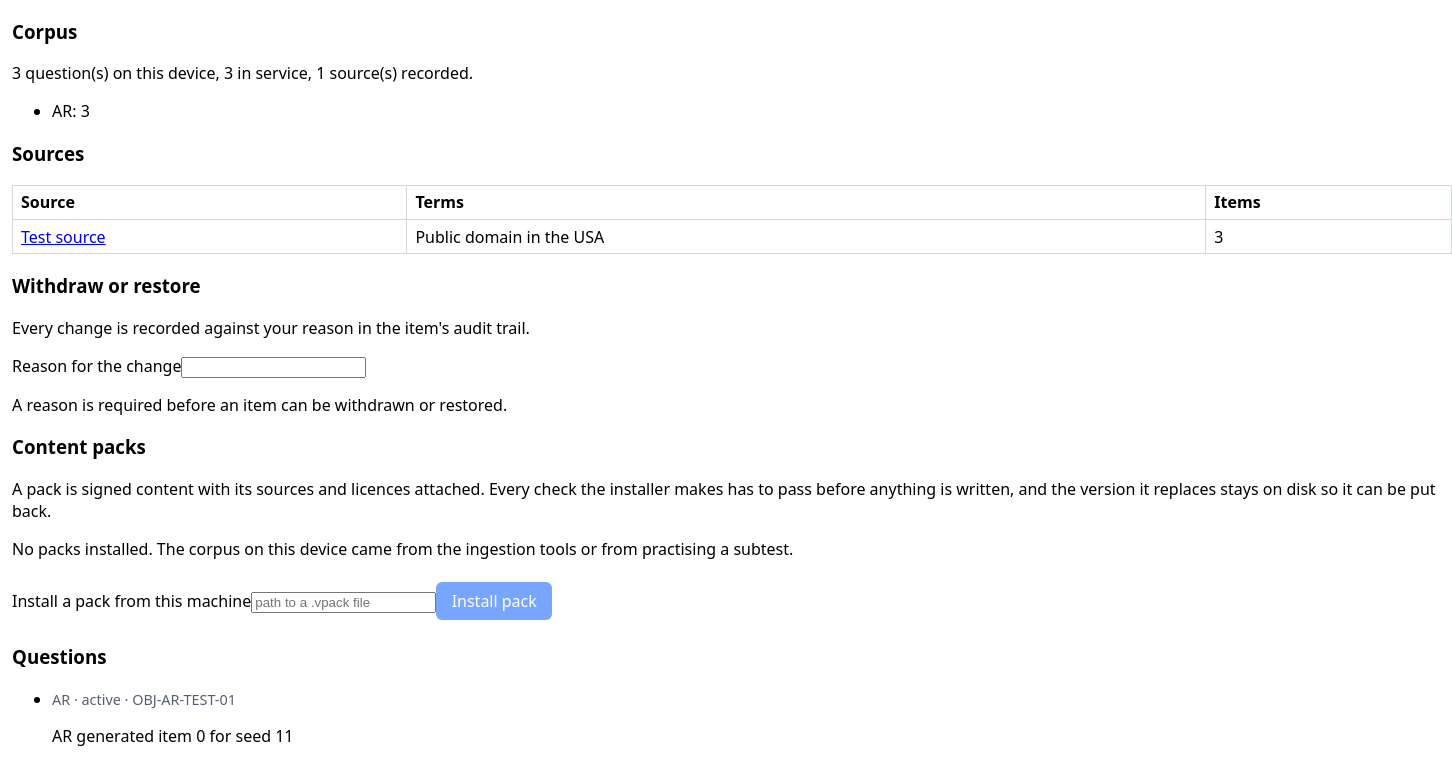
the packs panel › shows what an installed pack teaches, and how its difficulty was arrived at
The width and height of the screenshot is (1452, 764).
In the field with test id "pack-path-input": {"x": 344, "y": 602} [251, 592, 436, 613], type "core.vpack"
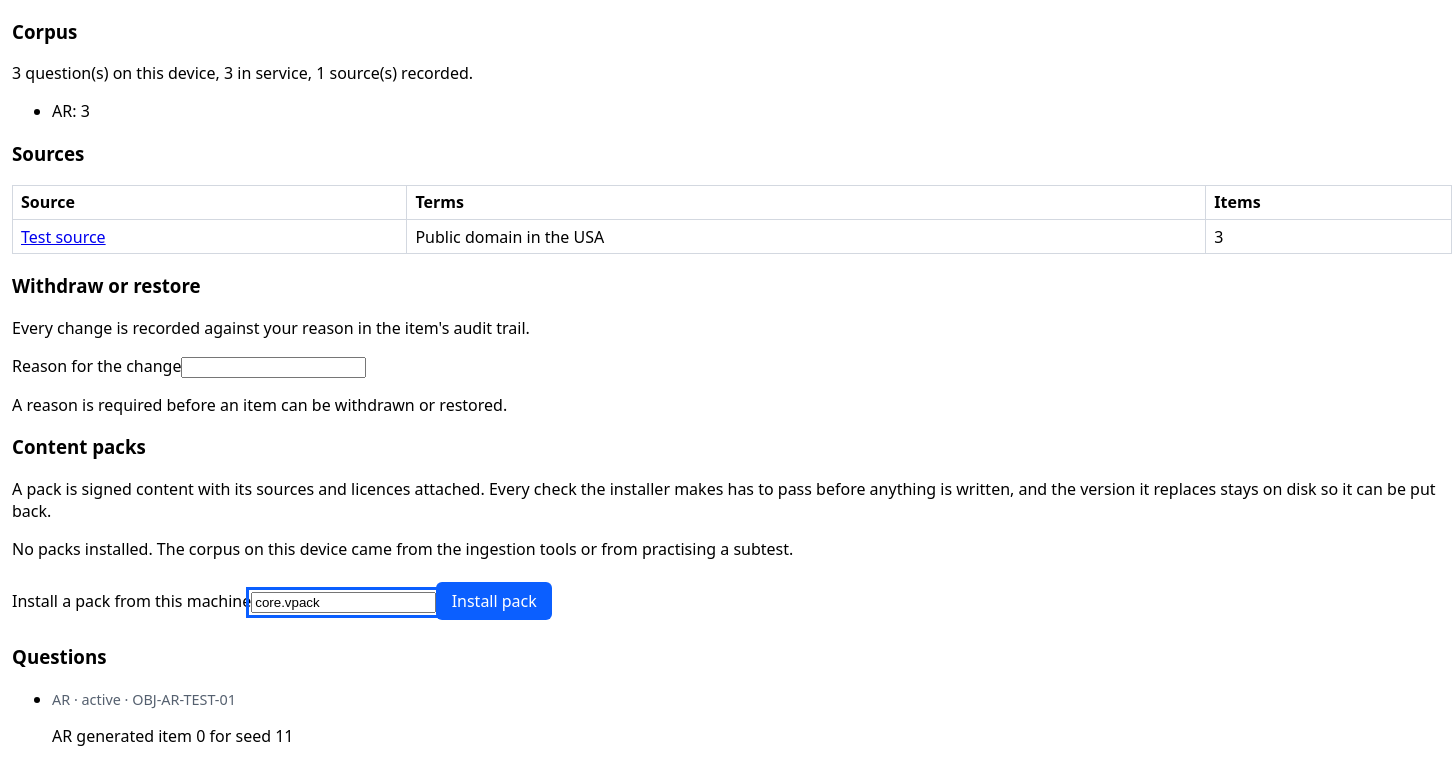
Click the button with test id "pack-install": {"x": 494, "y": 601} [436, 582, 552, 620]
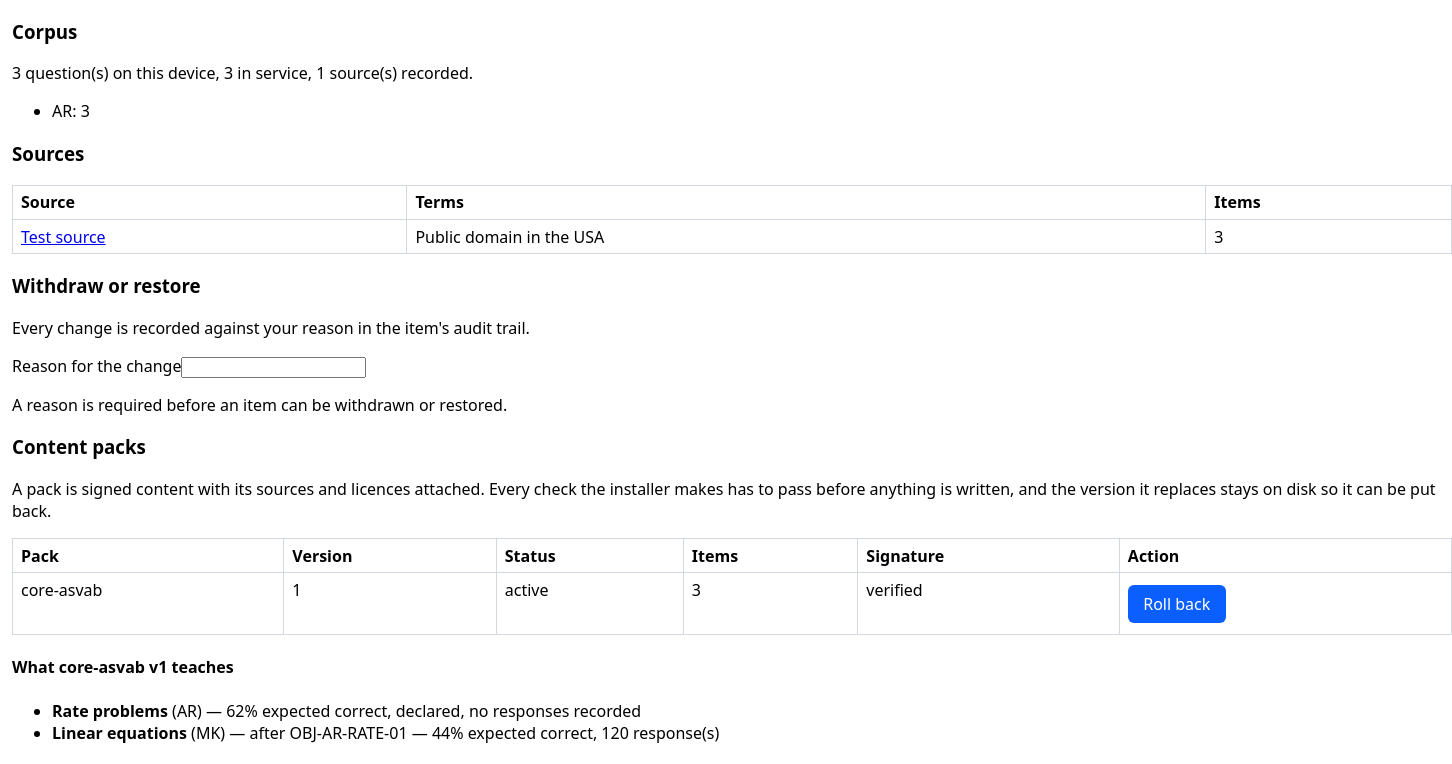
Now the table with test id "packs-table" is shown, box [12, 538, 1451, 635]
Now the element with test id "pack-objectives-pack-core-asvab-1" shows "Rate problems", box [52, 700, 168, 722]
Now the element with test id "pack-objectives-pack-core-asvab-1" shows "(MK)", box [196, 722, 220, 744]
